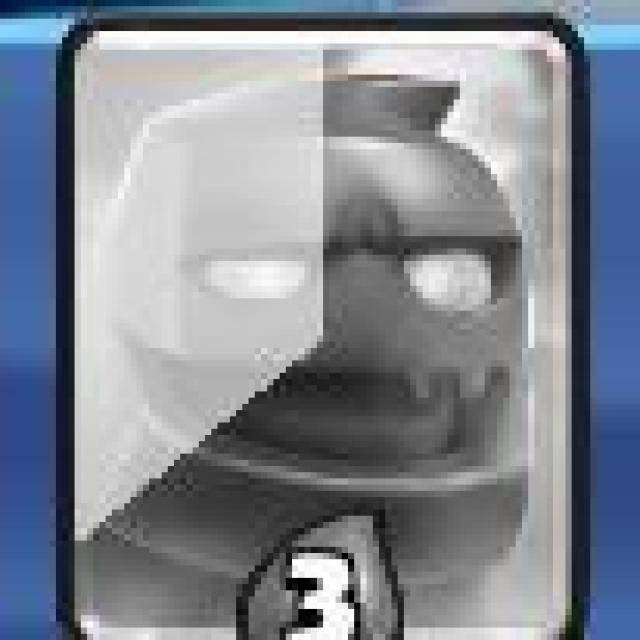Elixir_Golem: (55, 16, 591, 640)
